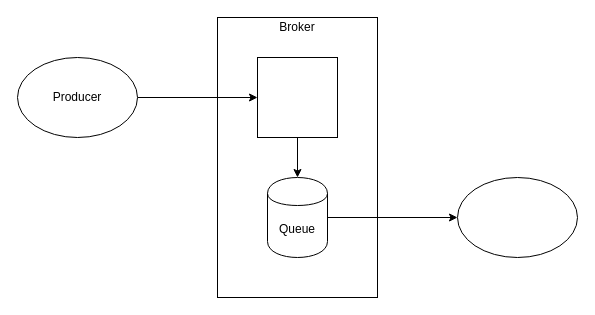
Some shapes in this 595 by 315 pixel diagram are drawn without their labels. The box of each missing label's shape, as (x1, y1, x2, y2) in pixels:
Concumer: (456, 176, 578, 258)
Exchange: (256, 56, 338, 138)
